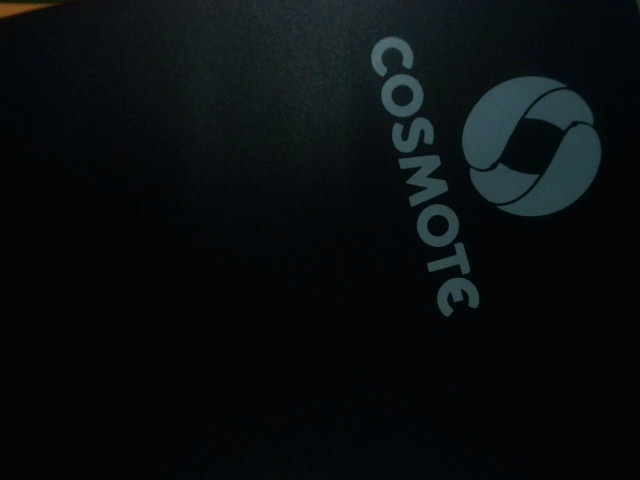AU_COSMOTE: (360, 37, 607, 315)
